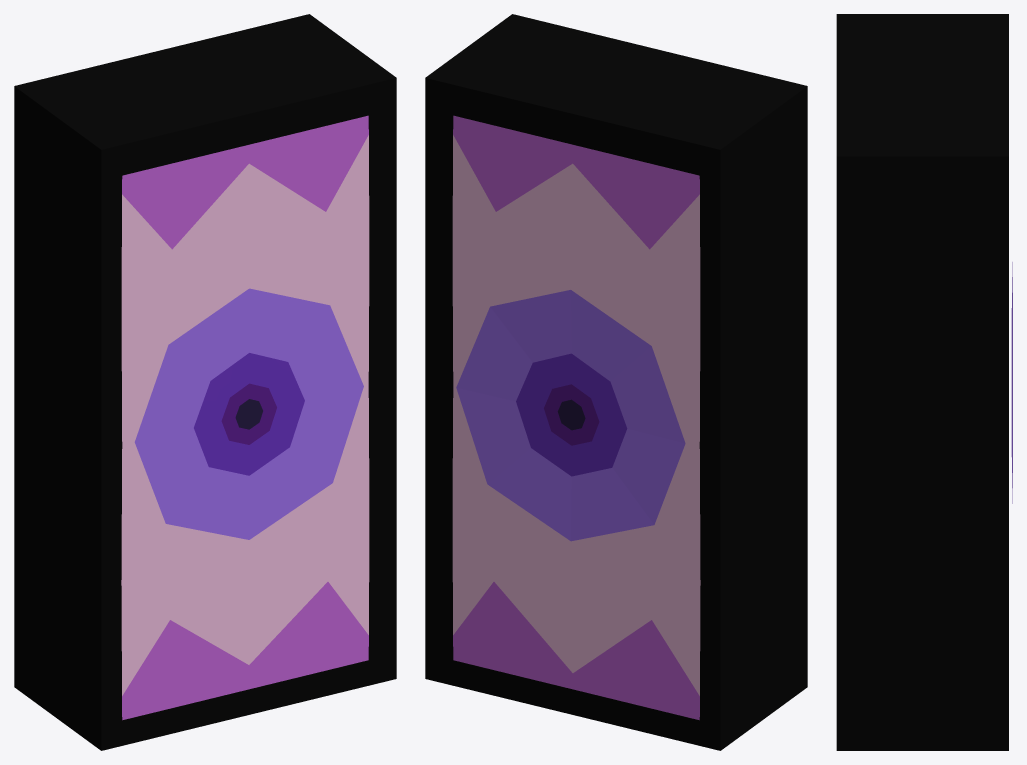
The model's file is Hub World Portal.fbx.
The picture shows the model from 3 angles, left to right: view 1: azimuth 30°, elevation 25°; view 2: azimuth 150°, elevation 25°; view 3: azimuth 270°, elevation 25°; orthographic projection.
Parts seen in each view (by area): view 1: Dungeon Portal, Dungeon Portal Center; view 2: Dungeon Portal, Dungeon Portal Center; view 3: Dungeon Portal, Dungeon Portal Center.
Part boxes in pixels (left/top/right/bottom): Dungeon Portal: left=14, top=14, right=396, bottom=750; Dungeon Portal Center: left=134, top=288, right=363, bottom=539; Dungeon Portal: left=425, top=14, right=807, bottom=750; Dungeon Portal Center: left=456, top=290, right=685, bottom=541; Dungeon Portal: left=836, top=14, right=1008, bottom=750; Dungeon Portal Center: left=1011, top=262, right=1012, bottom=503.
Size of the model in its own units: 767 by 1490 by 402.
